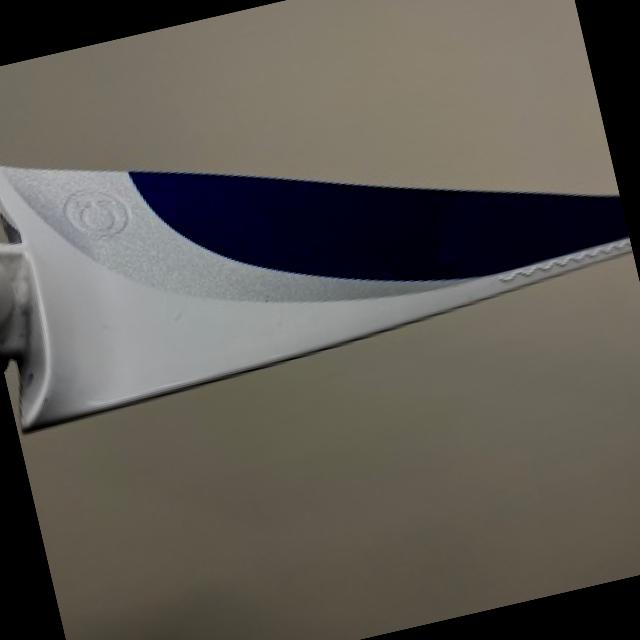healthy: (0, 165, 630, 428)
